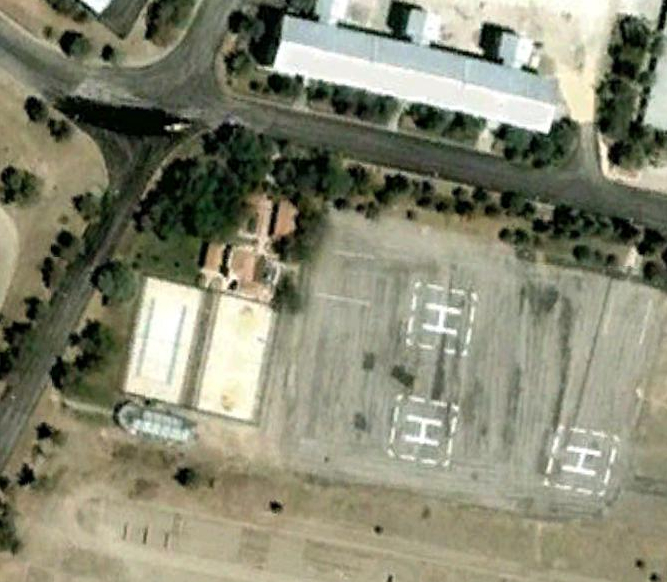heliport: (417, 295, 464, 339), (559, 439, 603, 479), (402, 410, 443, 451)
